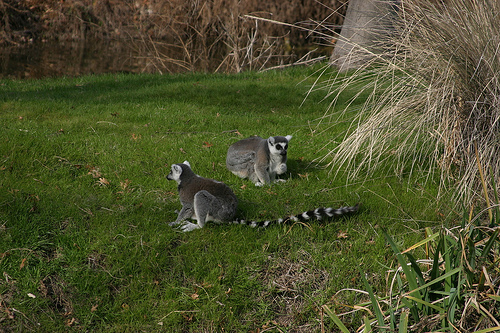cat: (166, 160, 359, 231), (225, 134, 291, 188)
